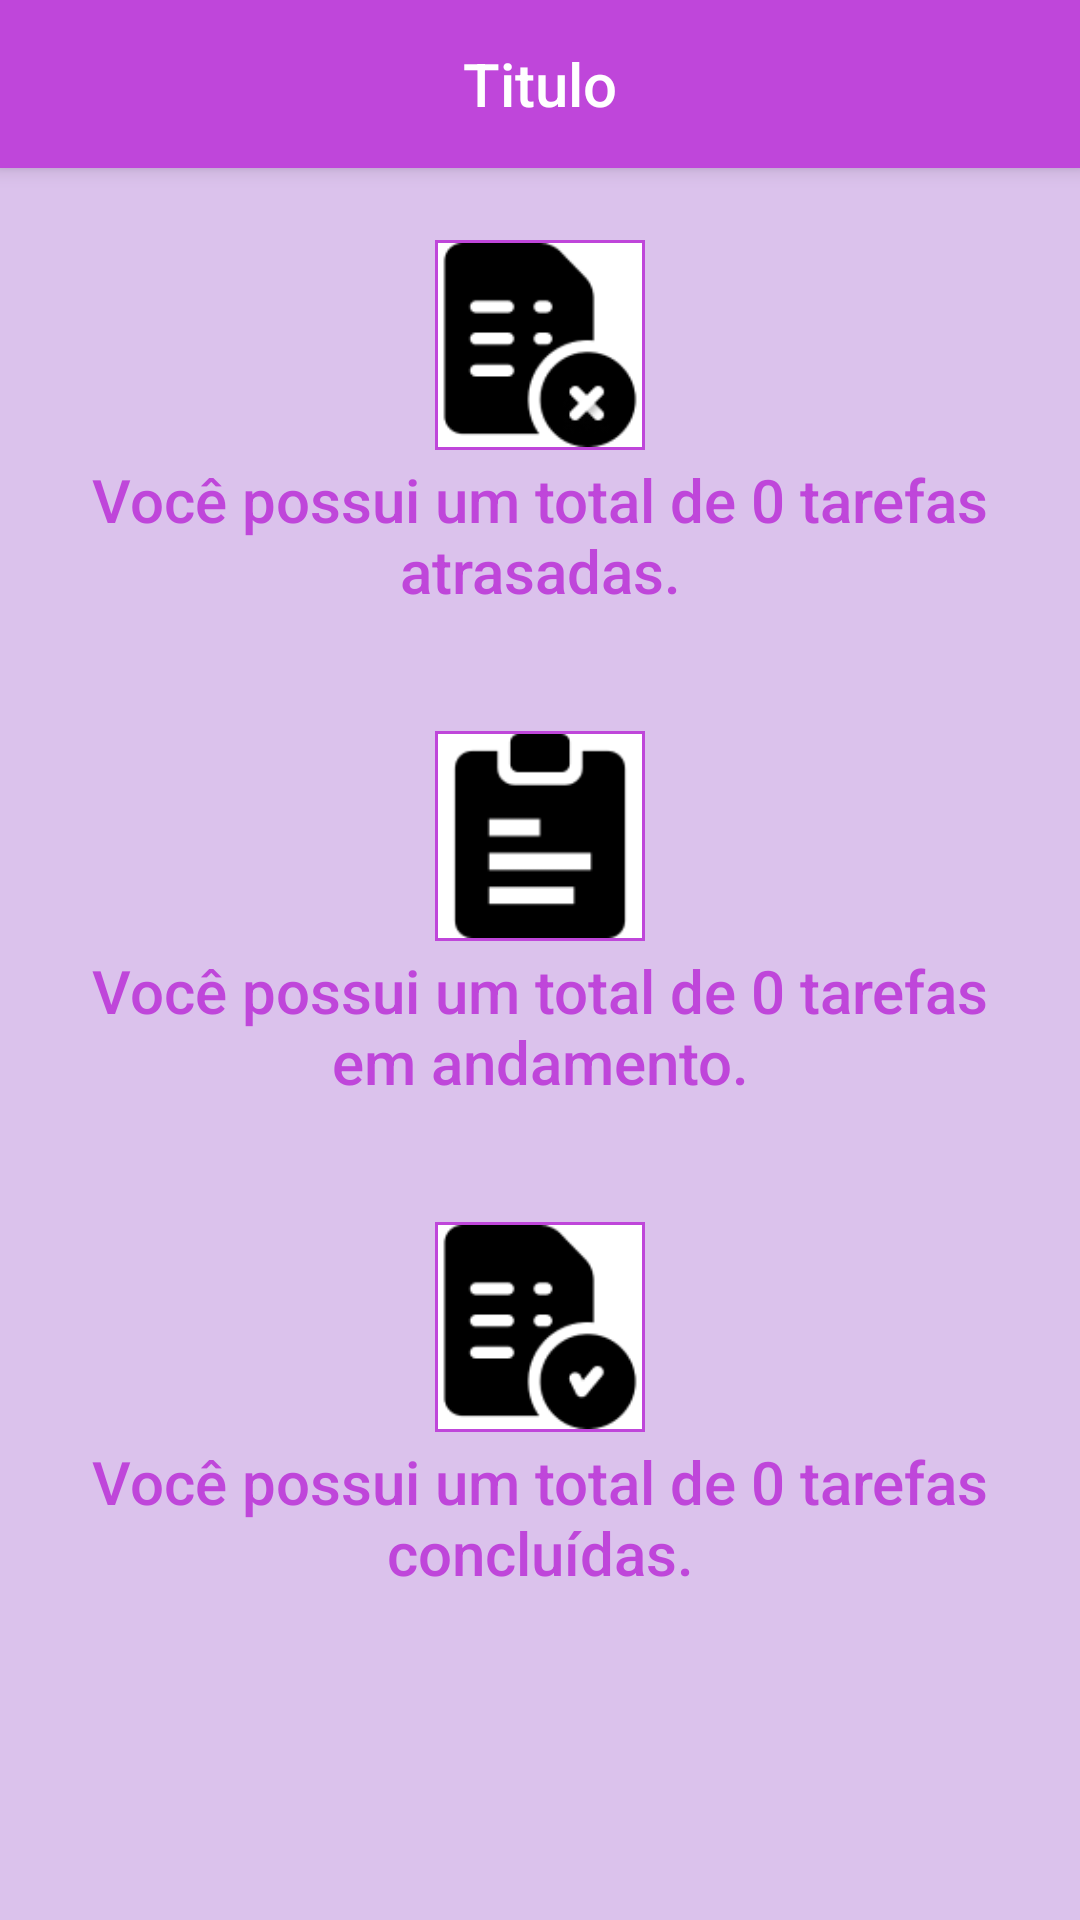

Screen size 1080*1920. Icon name, then its center in pixels as (x=x, y=y):
task andamento: (x=540, y=836)
task atrasada: (x=540, y=345)
task concluida: (x=540, y=1327)
